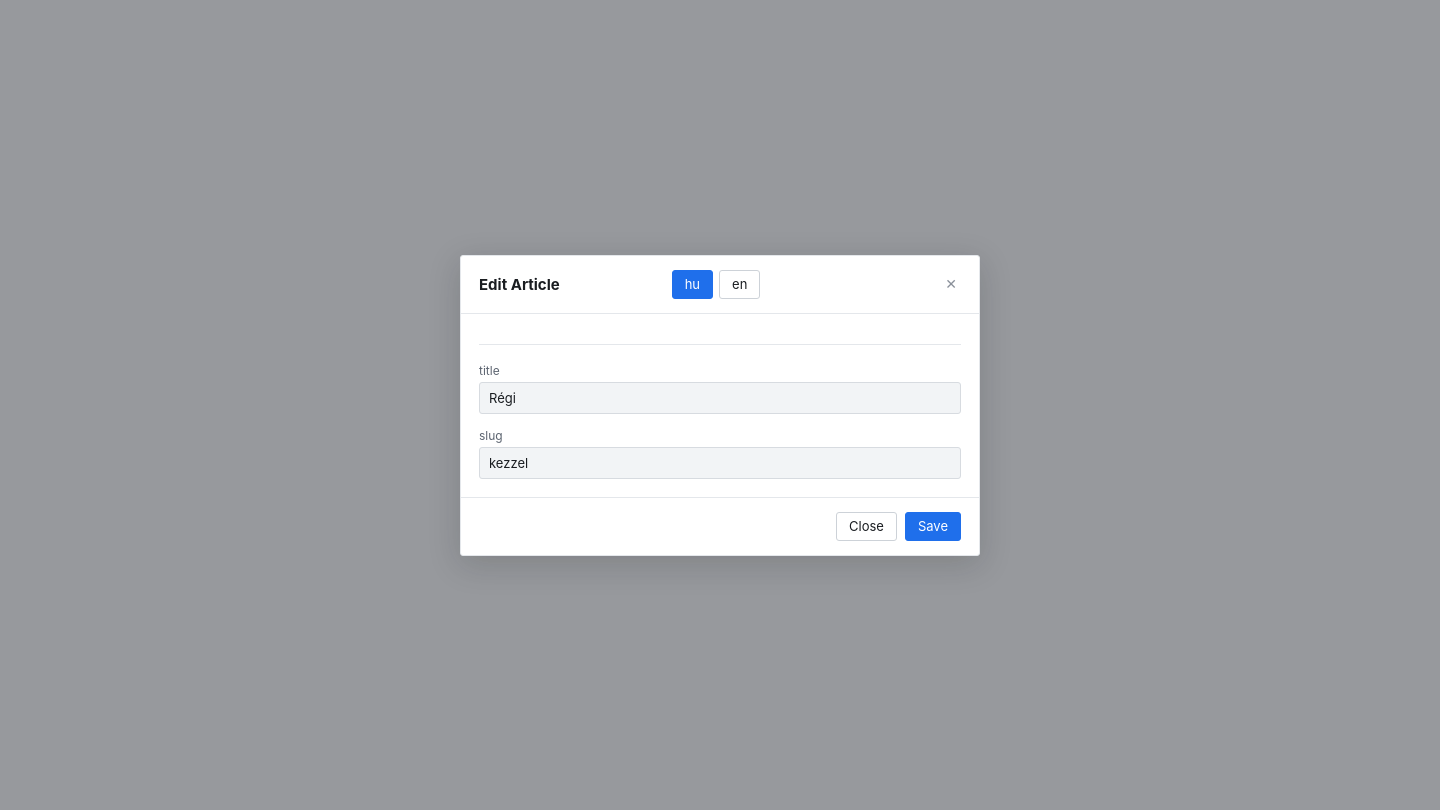
fillFrom › leaves a slug alone once it has one, and names the record being edited
The width and height of the screenshot is (1440, 810).
Type " új" into the field labelled "title" at (720,398), box [480,382,960,412]
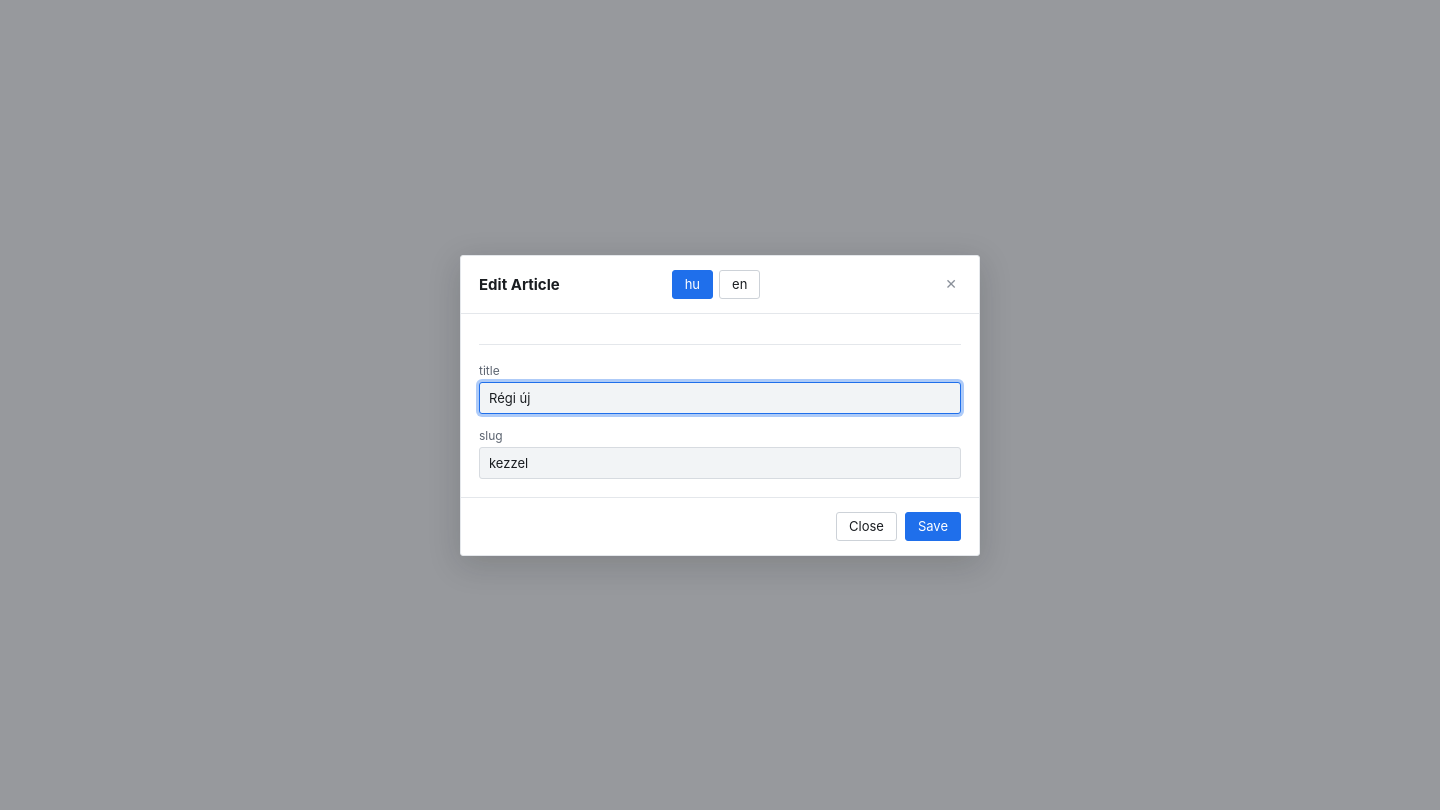
Press Tab
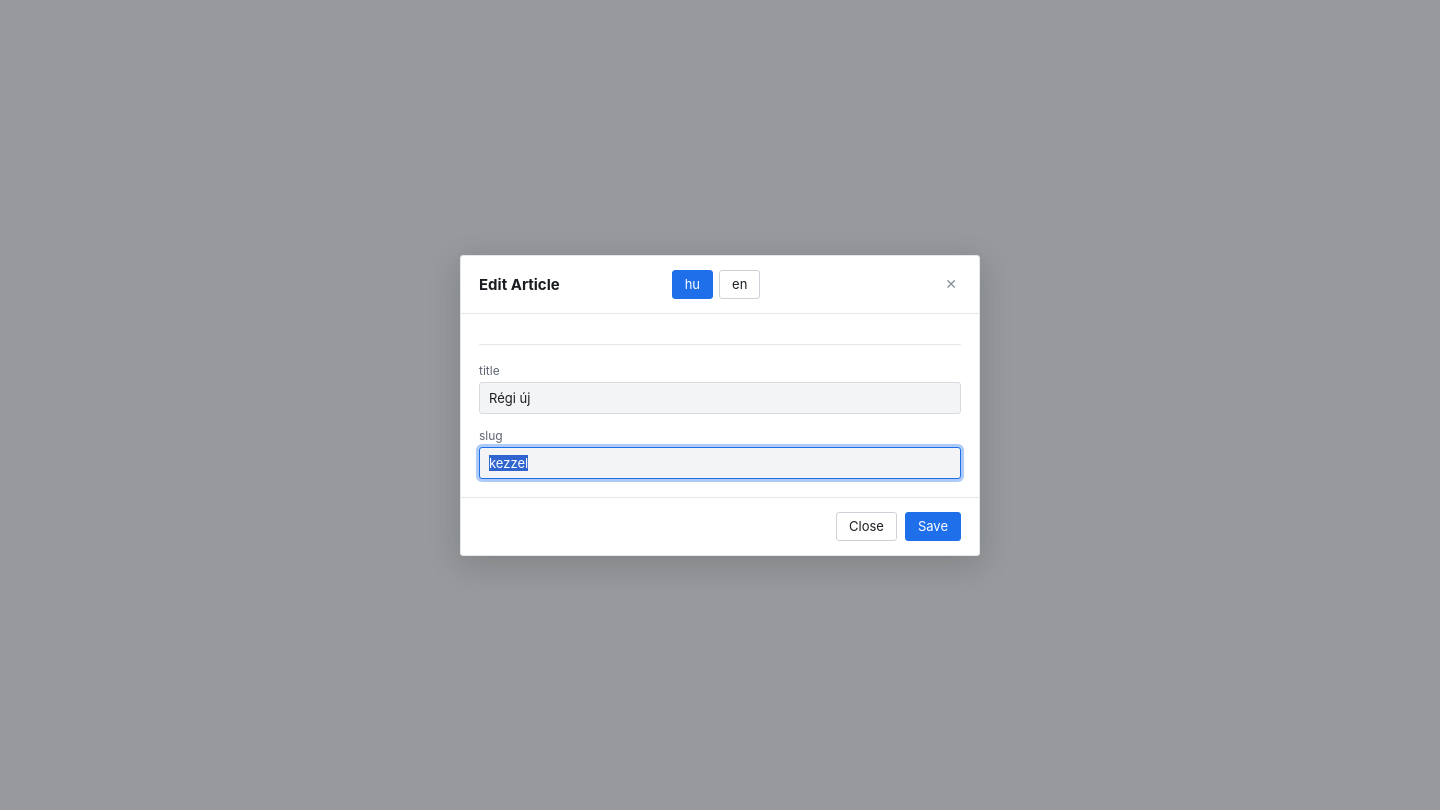
Clear the field labelled "slug" at (720,462), box [480,448,960,478]
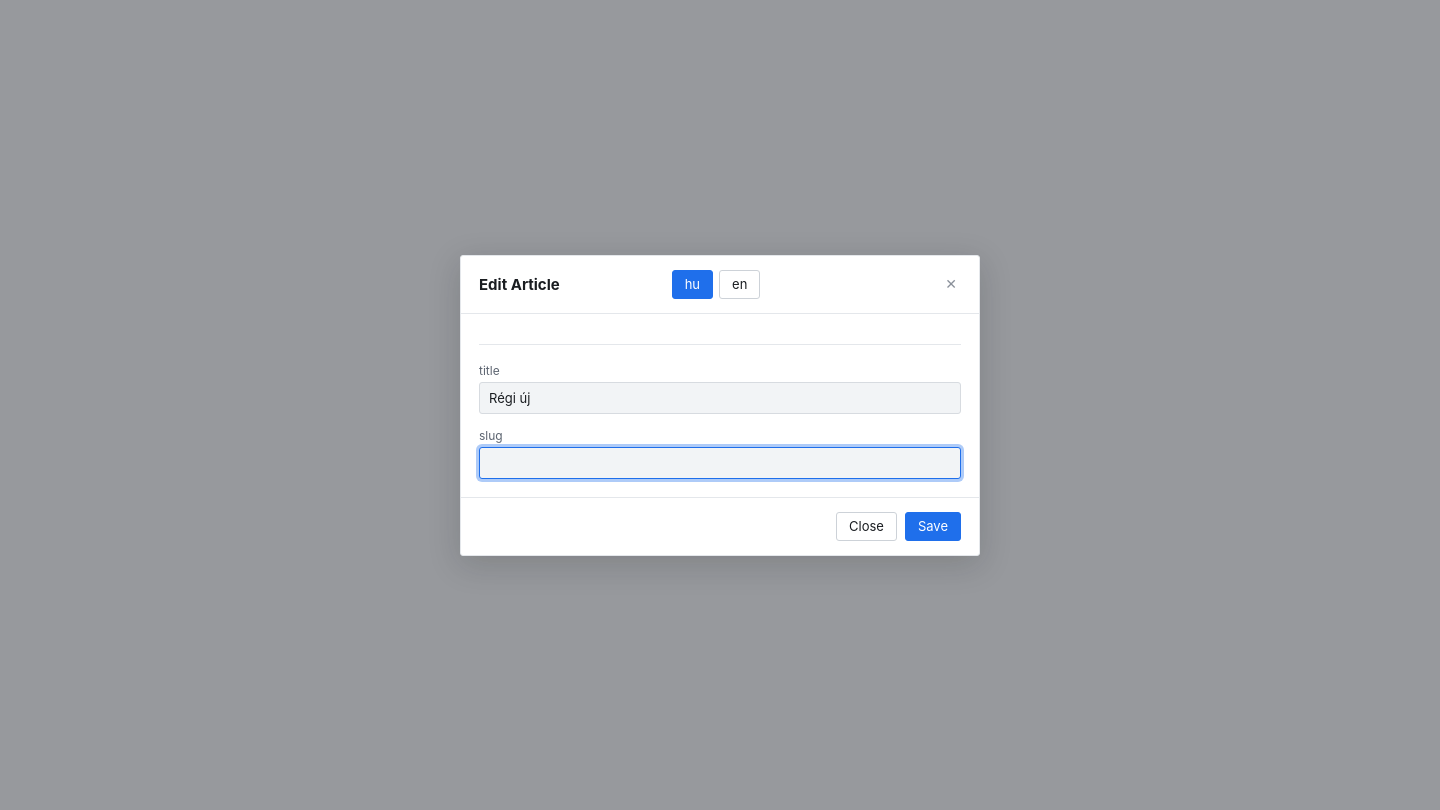
Click the field labelled "title" at (720,398), box [480,382,960,412]
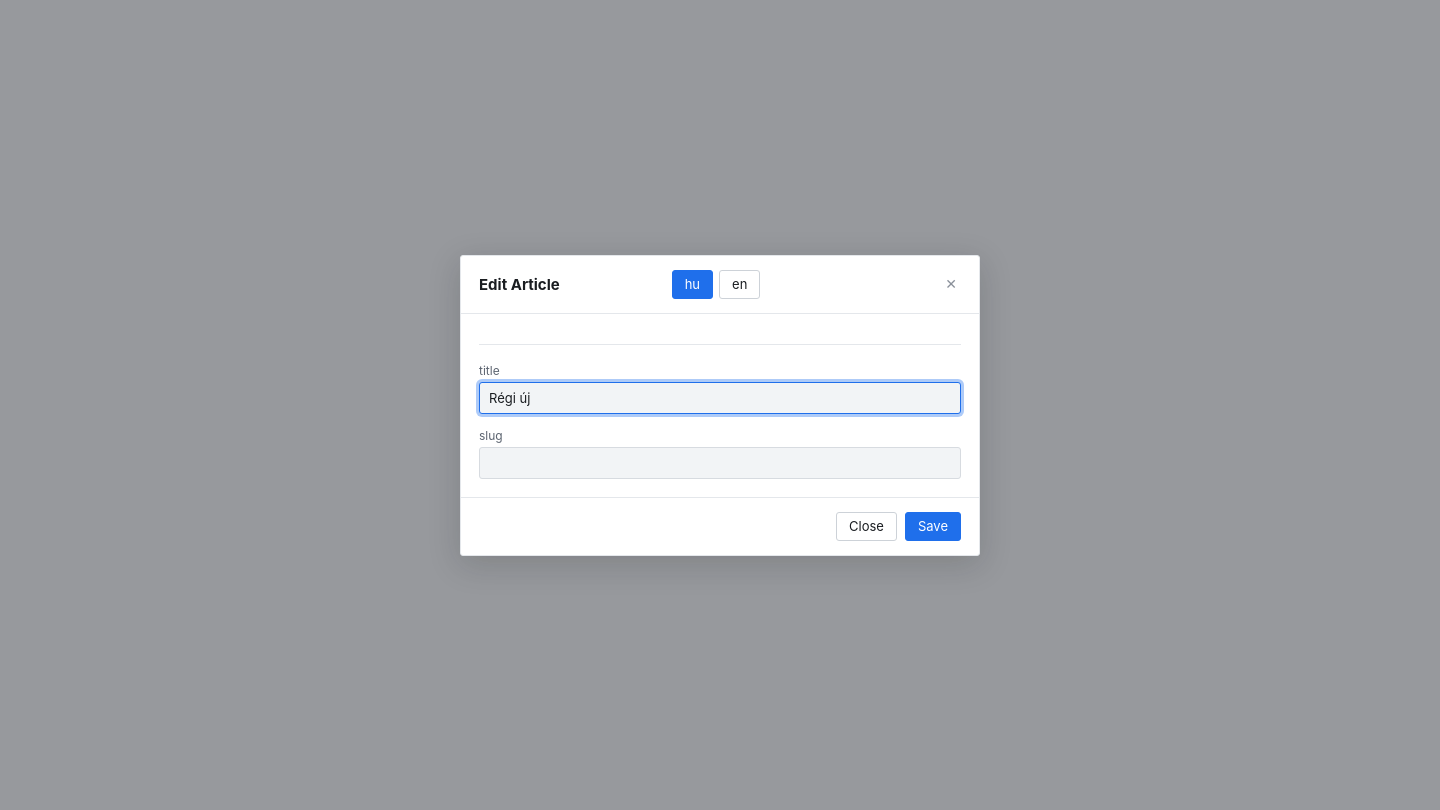
Press Tab
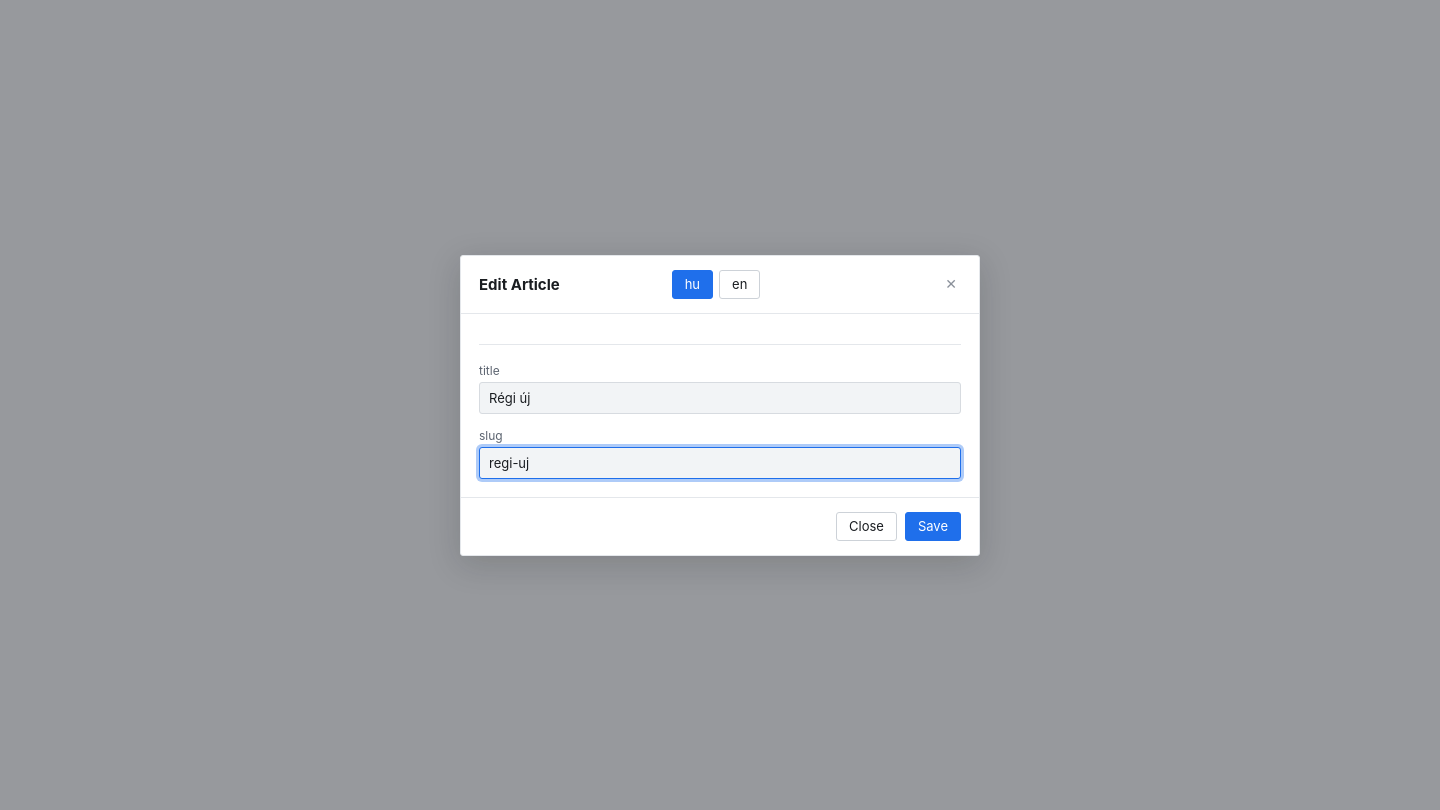
Result: the field labelled "slug" holds "regi-uj" at [480,448,960,478]
